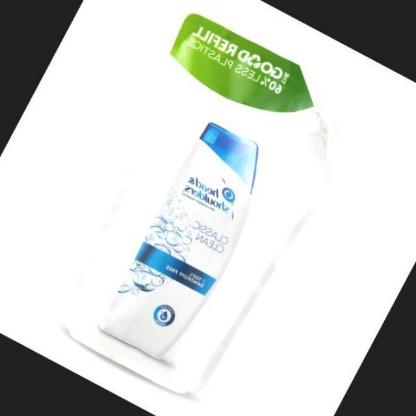Plastic Packaging: (58, 6, 330, 398)
